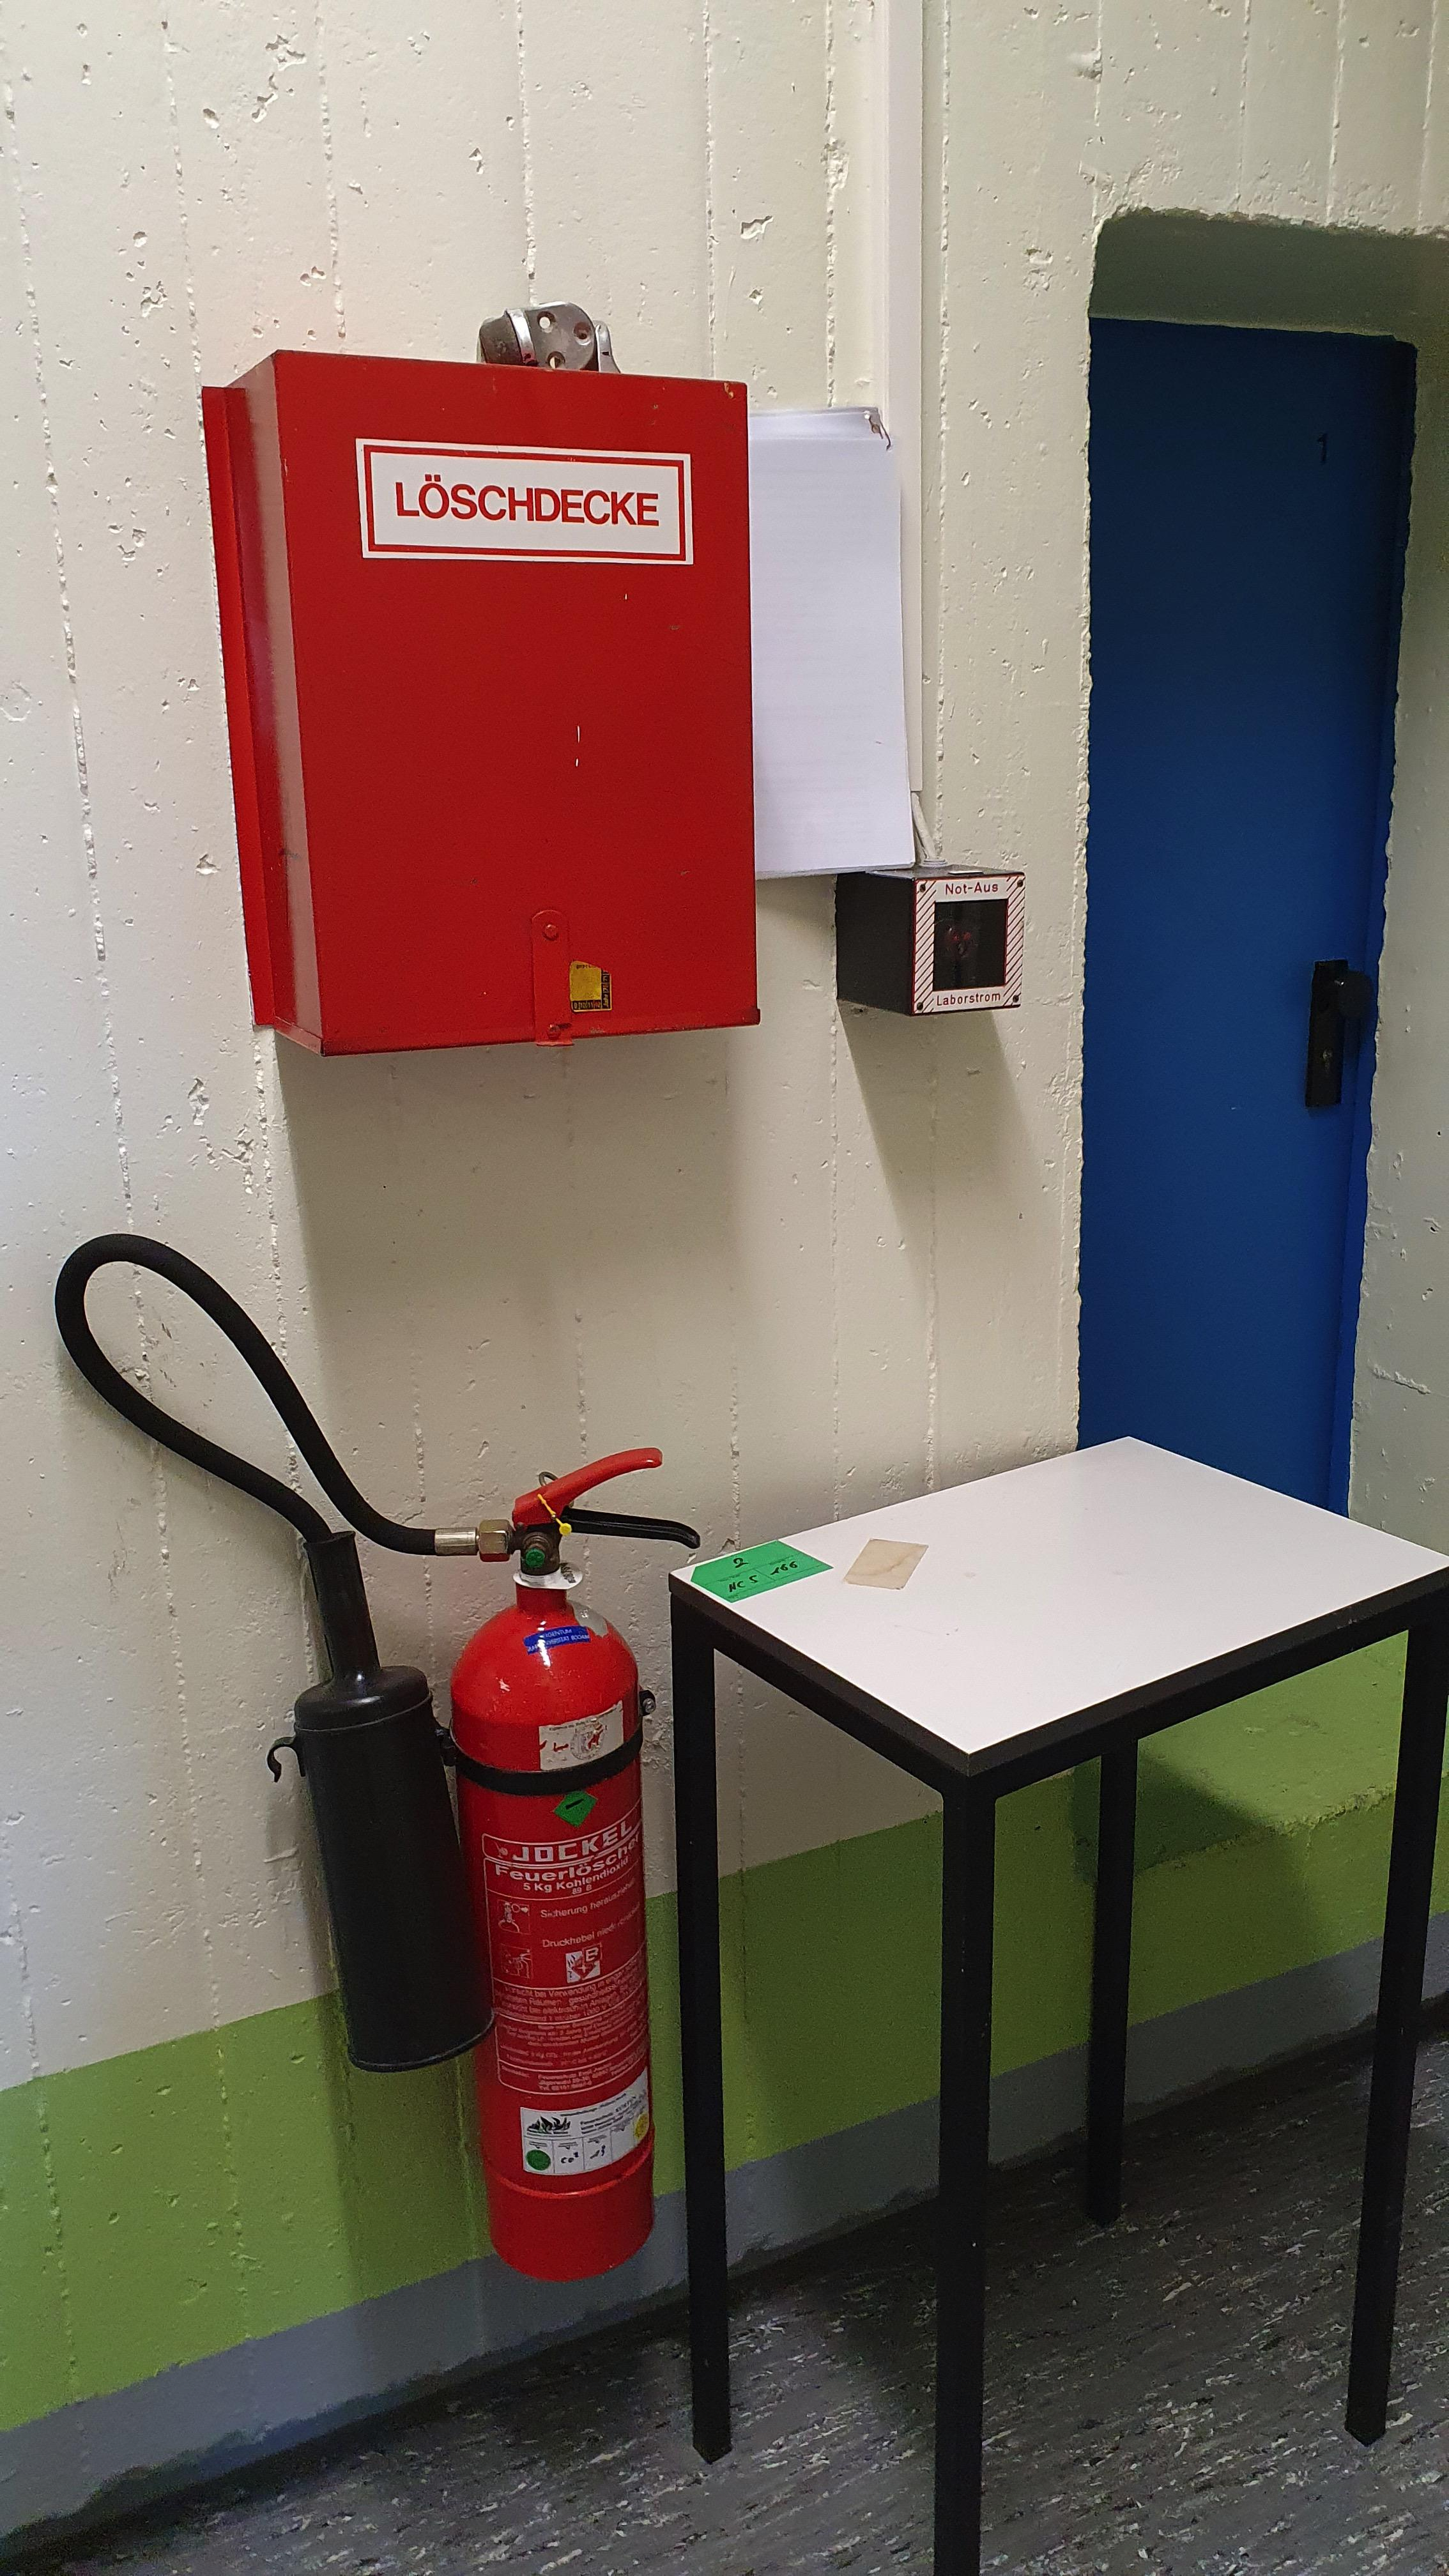extinguisher: (54, 1233, 701, 2281)
